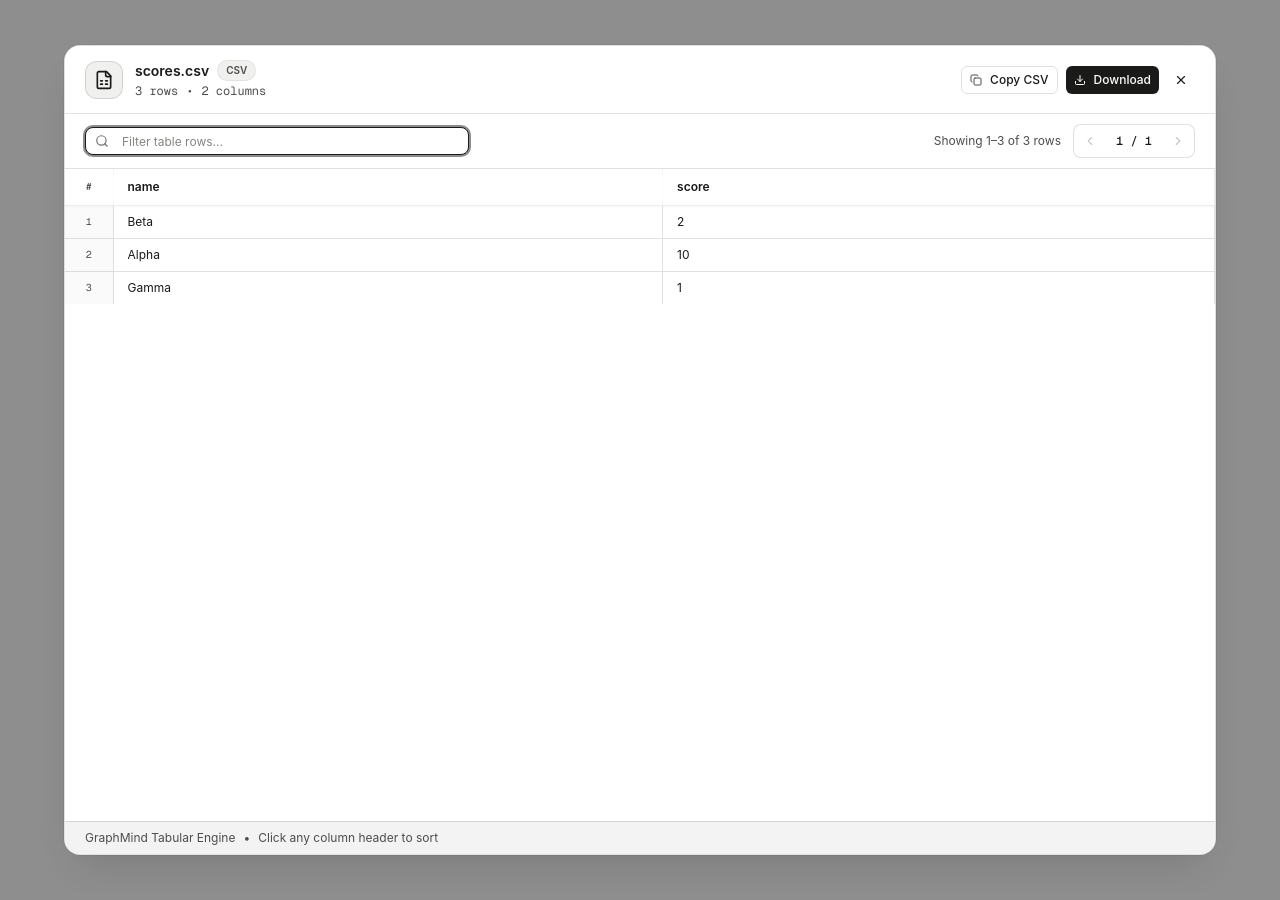
Test case: LSI-034 TableViewerModal › filters rows by search query and sorts by column header
expect the text "Beta" is shown: met, box [113,206,662,238]
# Numeric ascending sort on the score column.
Click the text "score" at (693, 187), box [677,179,710,195]
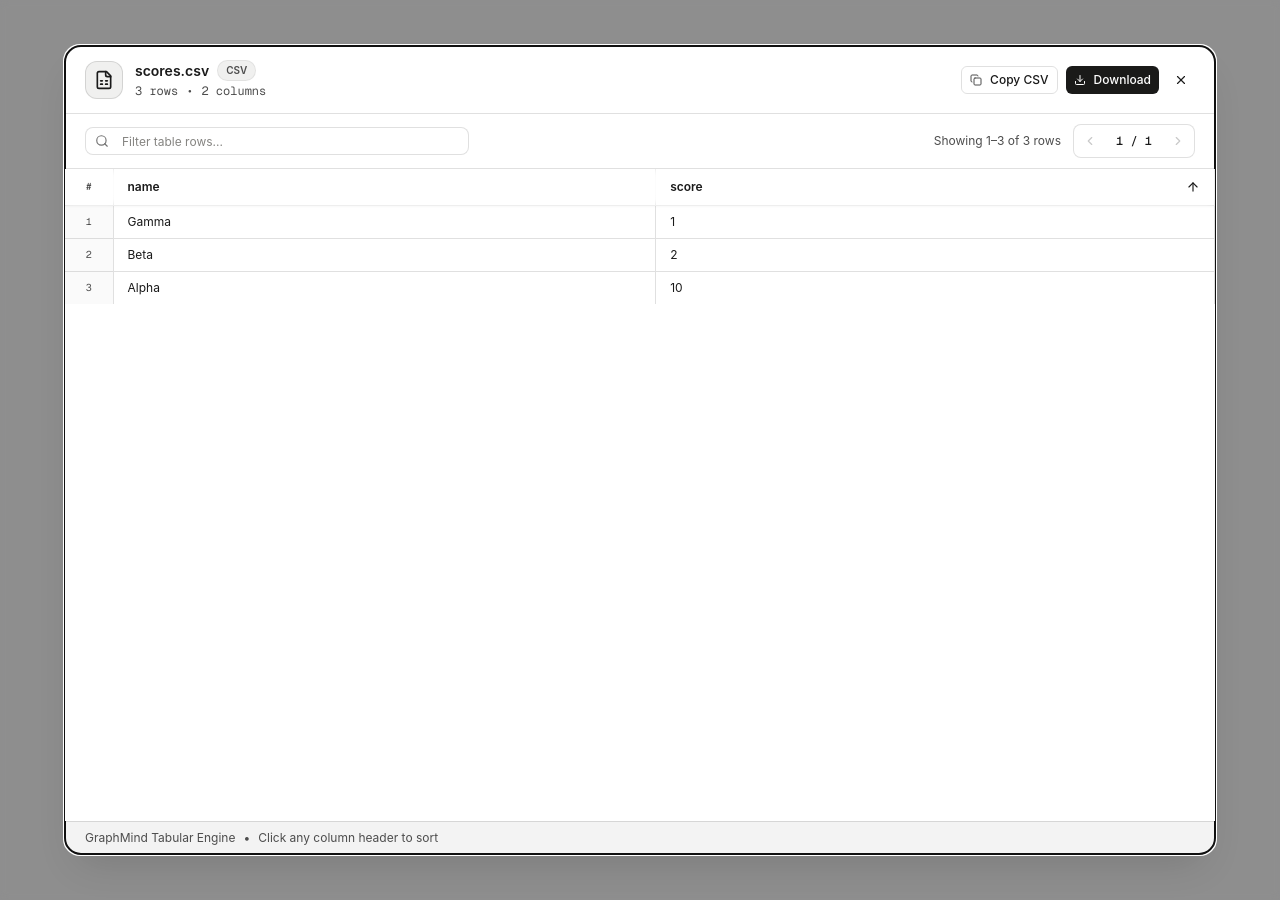
expect the text "Gamma" is shown: met, box [113,206,656,238]
# Free-text filter narrows the visible rows.
Type "Alpha" into the field with placeholder "Filter table rows..." at (277, 141), box [85,127,469,155]
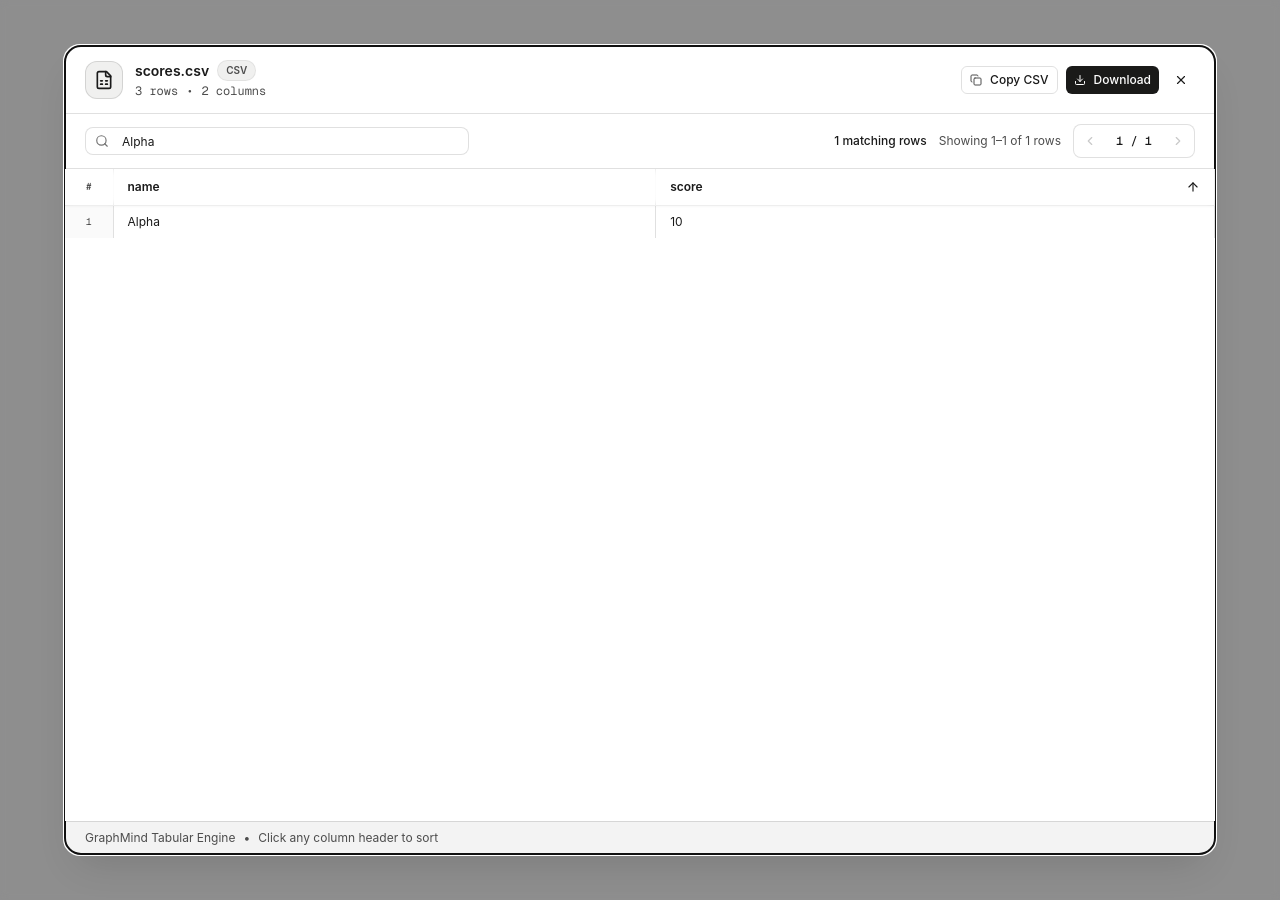
expect the text "Alpha" is shown: met, box [113,206,656,238]
expect the text "Beta" is gone: met
expect the text "1 matching rows" is shown: met, box [834,133,927,149]
